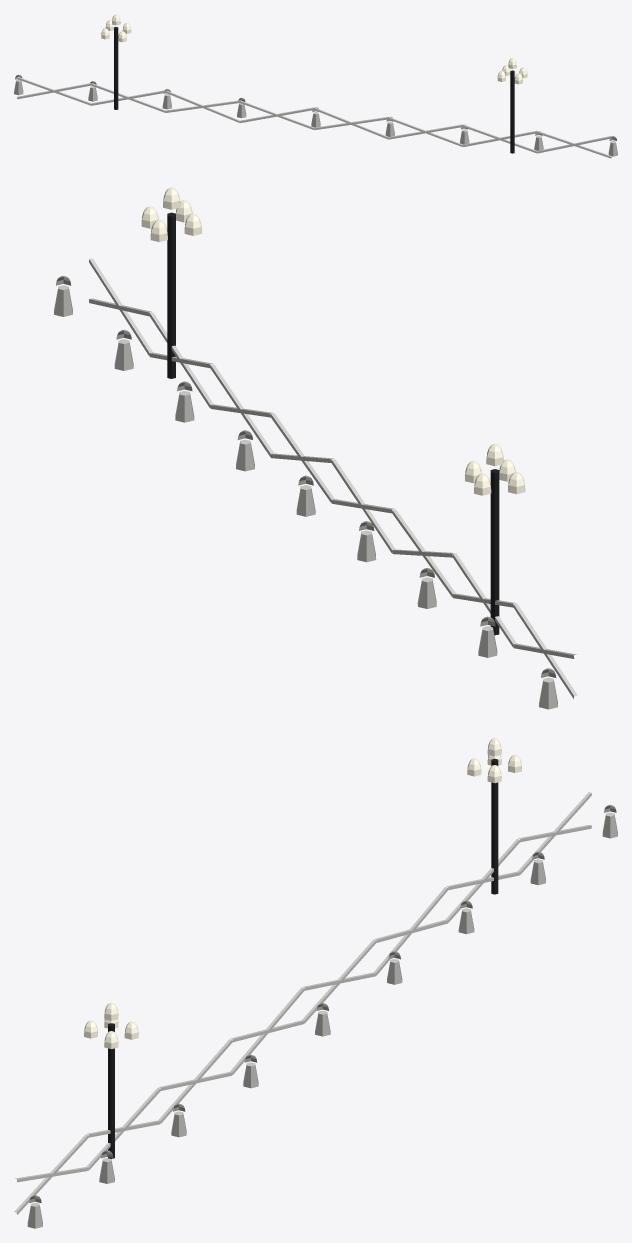
File: ora_bridgedeco.glb
3 renders of one model, top to bottom at view 1: azimuth 30°, elevation 25°; view 2: azimuth 150°, elevation 25°; view 3: azimuth 270°, elevation 25°, orthographic. The views are drawn at different scales.
Parts seen in each view (by area): view 1: ora_bridgedeco_lod0; view 2: ora_bridgedeco_lod0; view 3: ora_bridgedeco_lod0.
Part boxes in pixels (x1,y1,x2,y2): ora_bridgedeco_lod0: [14, 14, 617, 158]; ora_bridgedeco_lod0: [54, 187, 577, 709]; ora_bridgedeco_lod0: [14, 738, 617, 1228].
Size of what is drawn, in the model's own units: 20.05 by 5.51 by 14.88.
